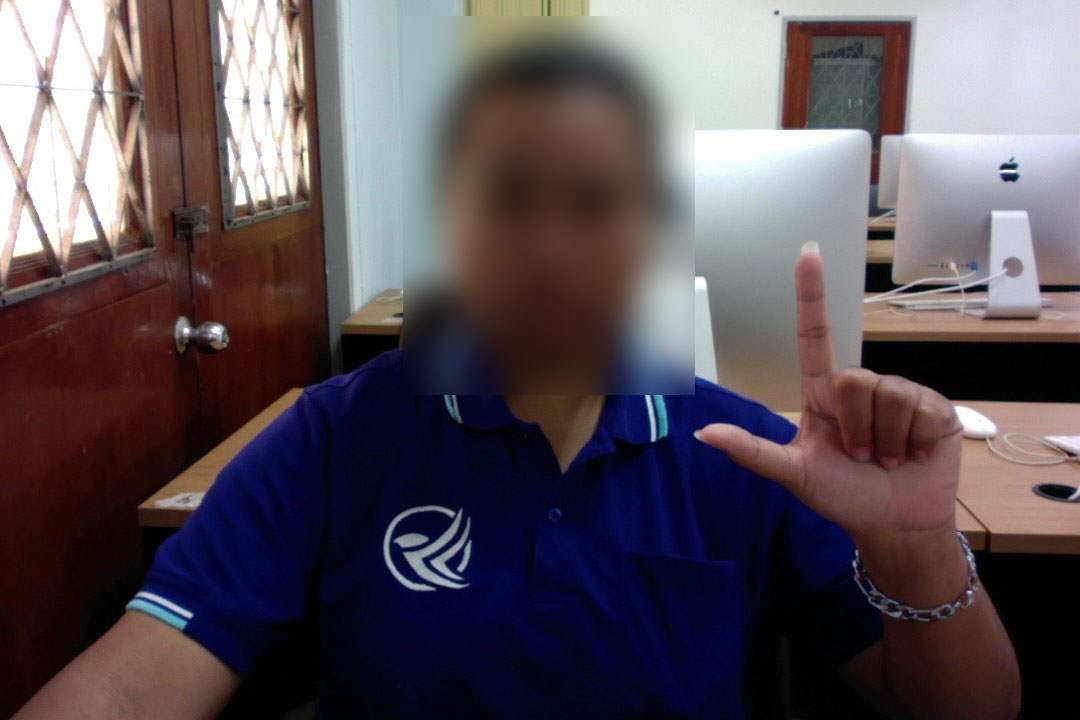lor: (686, 228, 985, 578)
